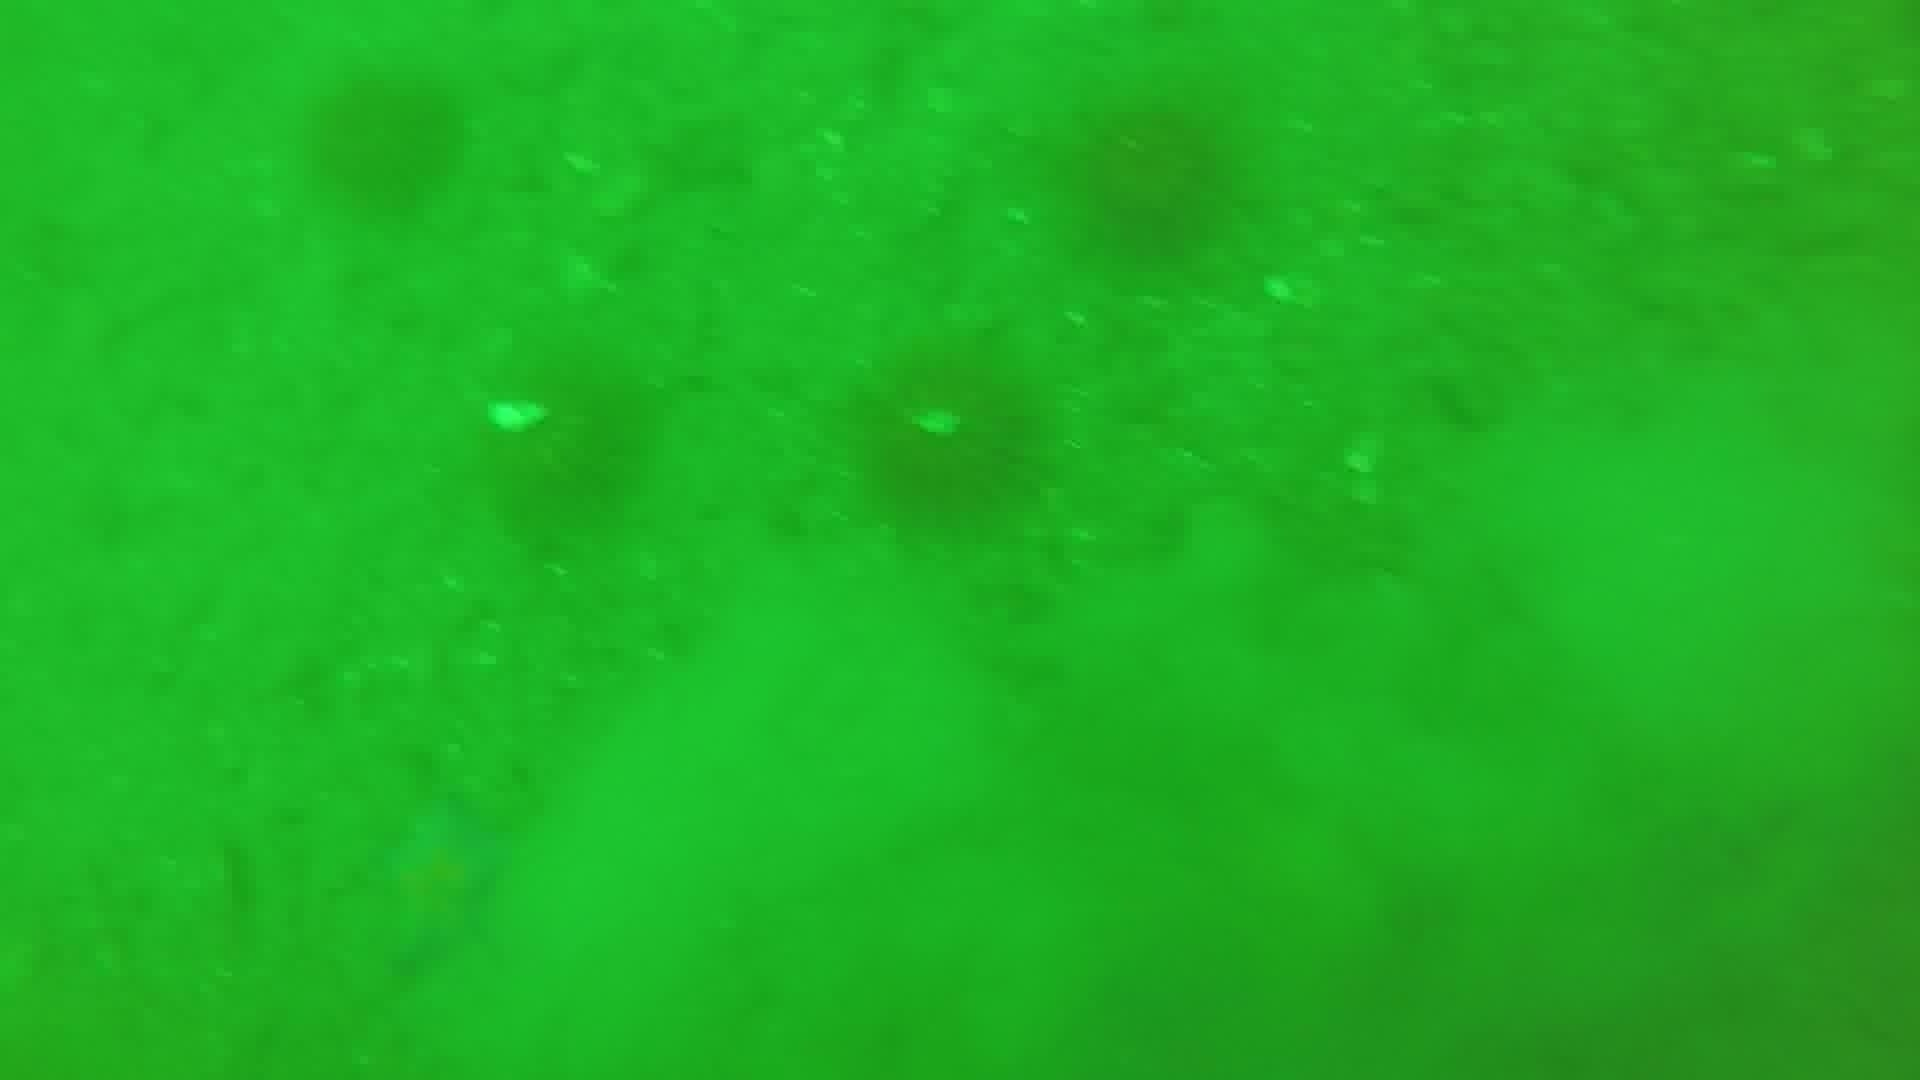echinus: (458, 335, 655, 543), (848, 340, 1052, 538), (1068, 94, 1246, 264), (305, 69, 469, 218)
starfish: (369, 796, 517, 973)
